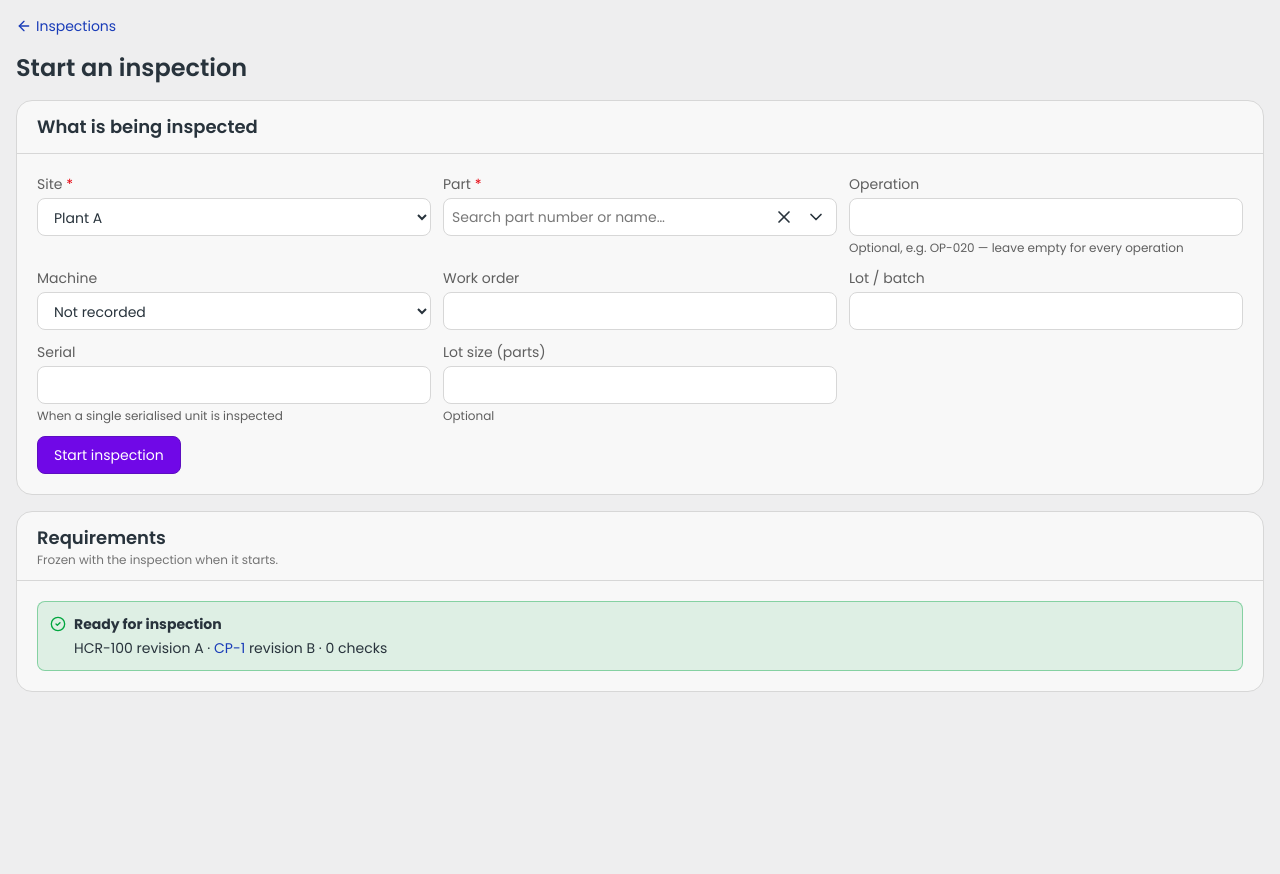
it: Start inspection › starts only when the requirements resolve, sending the production context
The image size is (1280, 874).
expect the text "Ready for inspection" is shown: met, box [74, 614, 222, 634]
Type "WO-77" into the field labelled "Work order". click: x=640, y=311
box: [443, 292, 837, 330]
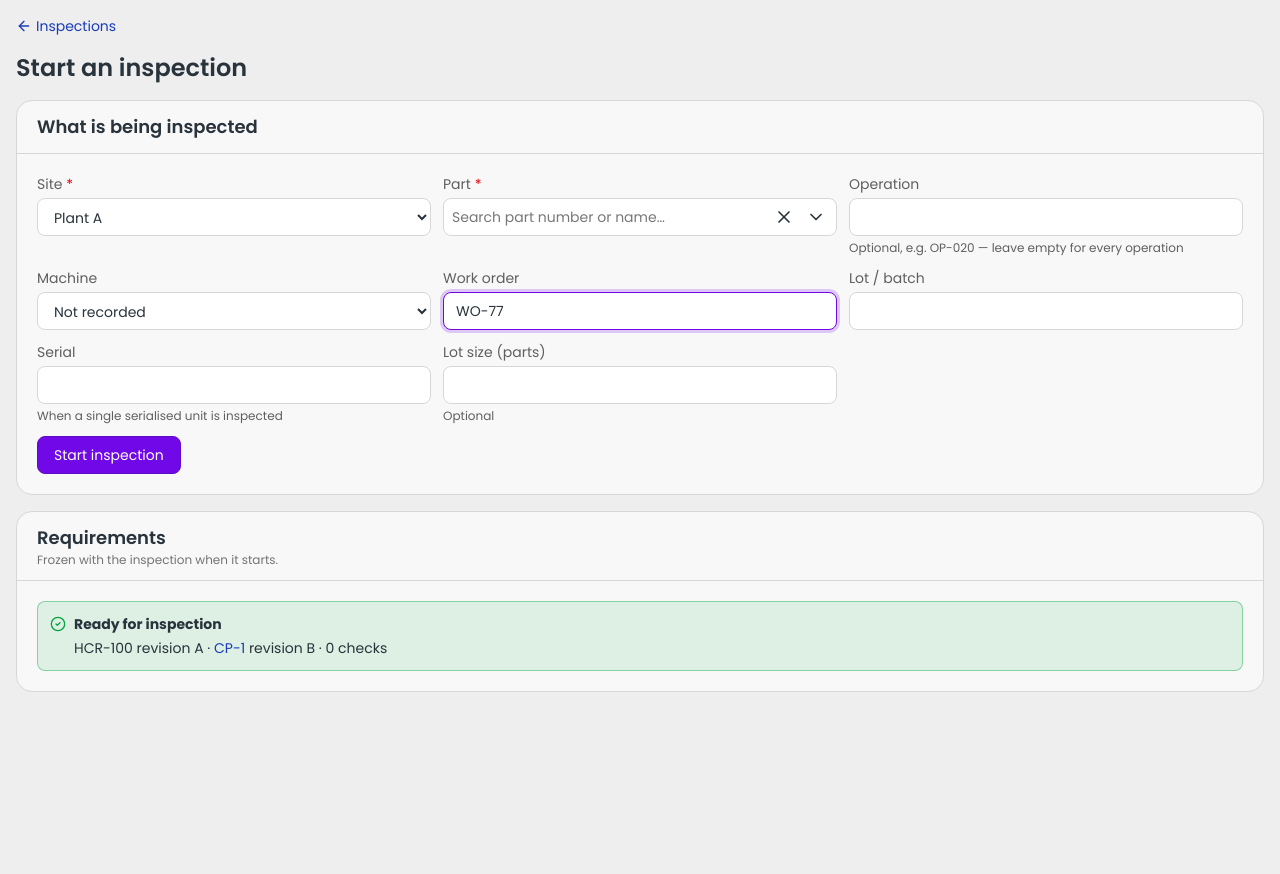
Select "LATHE-01 · Lathe" in the dropdown labelled "Machine". click: x=234, y=311
box: [37, 292, 431, 330]
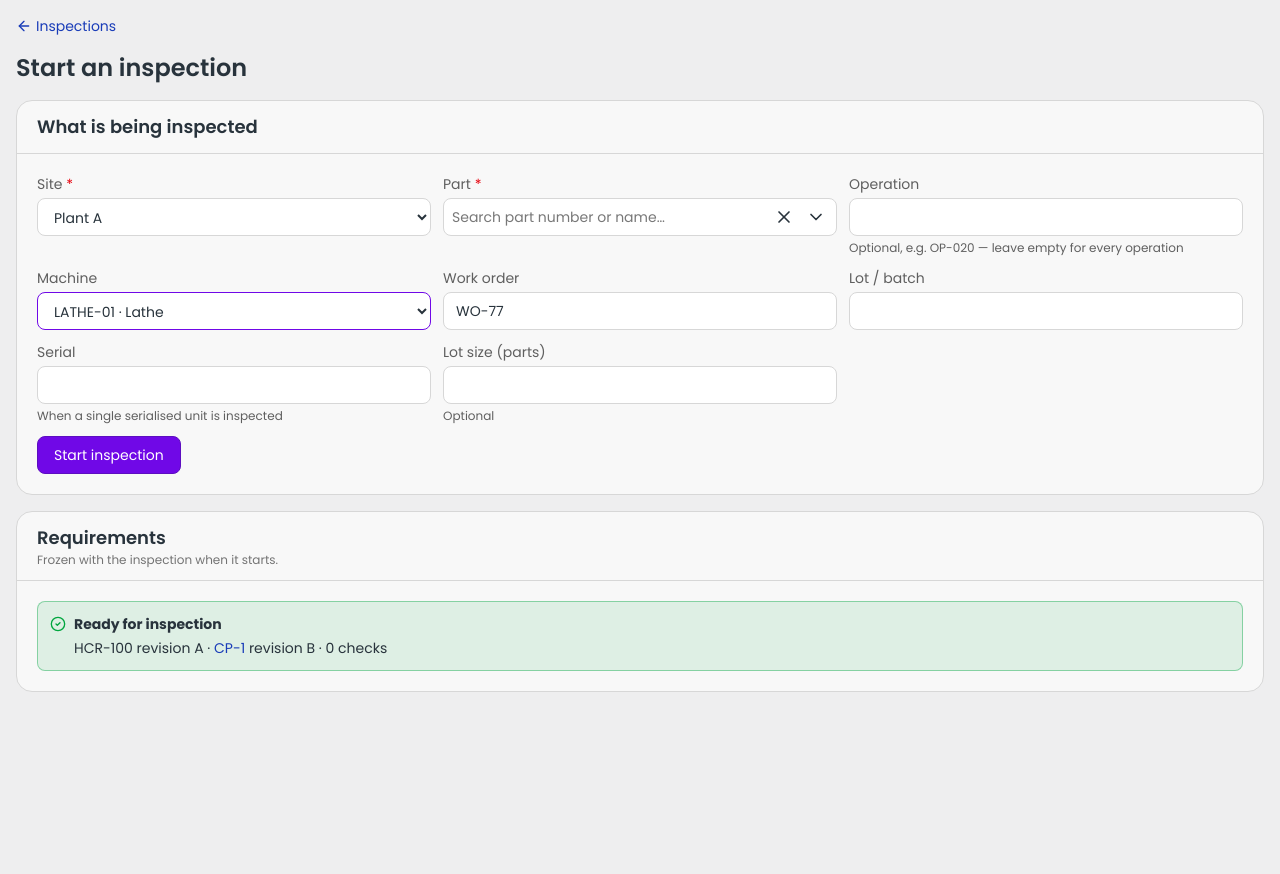
Click the button "Start inspection". click: x=109, y=455
box: [37, 436, 181, 474]
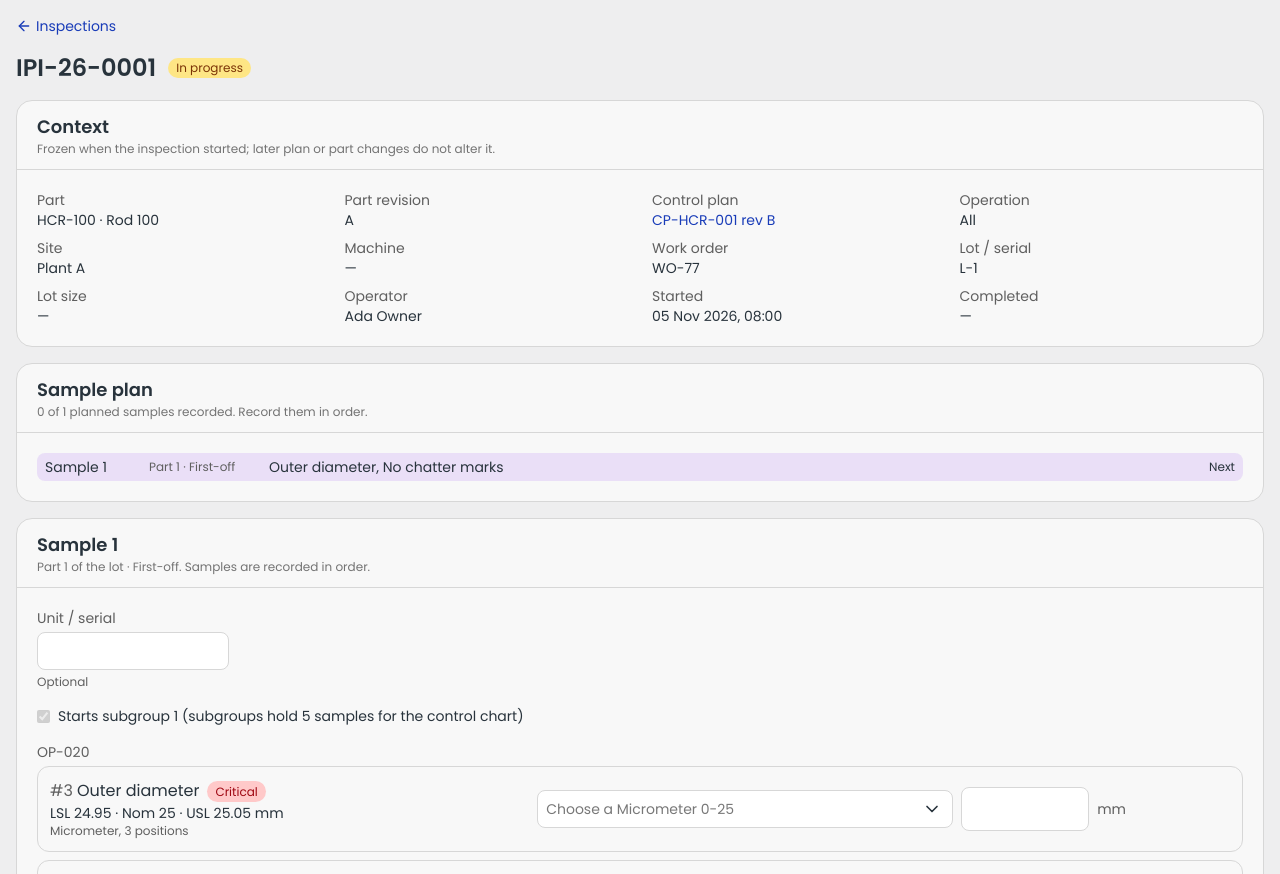
expect the heading "IPI-26-0001" is shown: met, box [16, 52, 156, 84]
